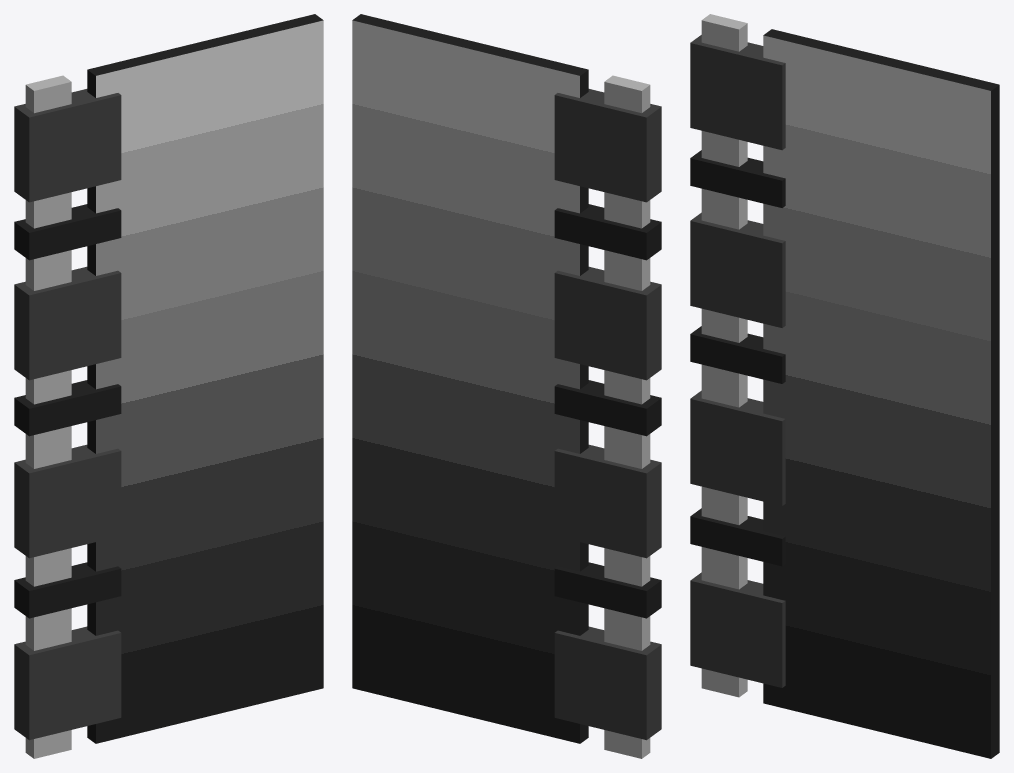
The model's file is sign_wizard.FBX.
3 renders of one model, left to right at view 1: azimuth 30°, elevation 25°; view 2: azimuth 150°, elevation 25°; view 3: azimuth 330°, elevation 25°, orthographic.
Parts seen in each view (by area): view 1: sign_wizard_image, sign_wizard; view 2: sign_wizard_image, sign_wizard; view 3: sign_wizard_image, sign_wizard.
Part boxes in pixels (x1,y1,x2,y2): sign_wizard_image: (96,20,323,743); sign_wizard: (14,14,323,758); sign_wizard_image: (352,20,579,743); sign_wizard: (352,14,661,758); sign_wizard_image: (763,35,990,758); sign_wizard: (690,14,999,758).
Bounding box in the file's own units: 129 × 276 × 11.28.
